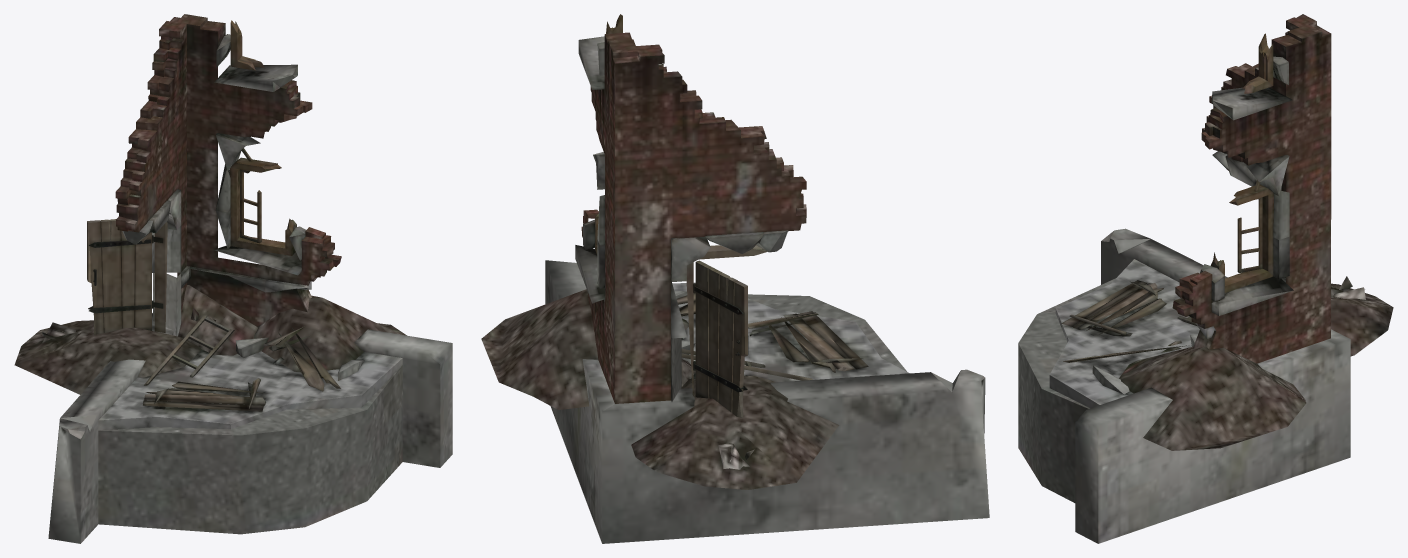
The model's file is Ruins.glb.
The picture shows the model from 3 angles, left to right: view 1: azimuth 30°, elevation 25°; view 2: azimuth 150°, elevation 25°; view 3: azimuth 270°, elevation 25°; orthographic projection. The views are drawn at different scales.
Parts seen in each view (by area): view 1: Obj3d66-8386636-2-699, Obj3d66-8386636-46-768; view 2: Obj3d66-8386636-2-699, Obj3d66-8386636-46-768; view 3: Obj3d66-8386636-2-699, Obj3d66-8386636-46-768.
Part boxes in pixels (bbox=[...]): Obj3d66-8386636-2-699: bbox=[14, 219, 452, 543]; Obj3d66-8386636-46-768: bbox=[115, 14, 341, 336]; Obj3d66-8386636-2-699: bbox=[481, 245, 989, 543]; Obj3d66-8386636-46-768: bbox=[575, 14, 806, 403]; Obj3d66-8386636-2-699: bbox=[1018, 168, 1393, 543]; Obj3d66-8386636-46-768: bbox=[1172, 14, 1331, 363].
Bounding box in the file's own units: 1.17 × 1.18 × 0.9196.
Materials: 2 (2 with a texture image).
